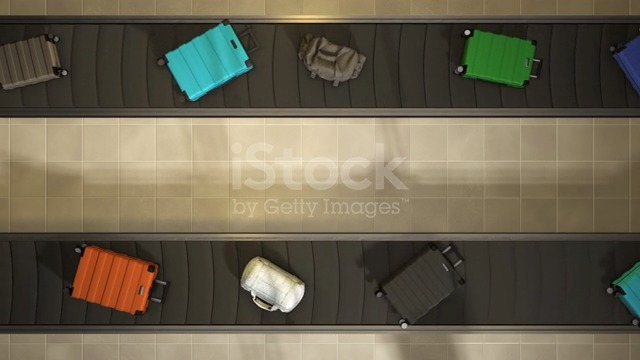Bag: (154, 18, 263, 104), (373, 243, 466, 329), (65, 245, 169, 317), (454, 26, 546, 95), (295, 32, 372, 94), (0, 30, 72, 93), (236, 255, 307, 318), (607, 255, 640, 323)
Handle: (439, 242, 465, 270), (147, 278, 171, 307), (238, 28, 260, 55), (528, 57, 545, 81)
